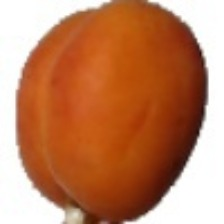apricot: (0, 3, 198, 187)
